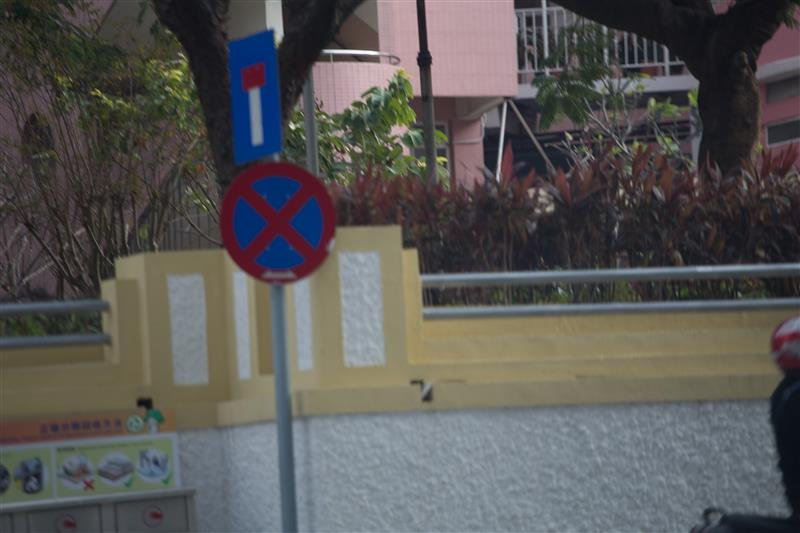deadEnd: (227, 29, 289, 166)
noParking: (221, 161, 340, 285)
